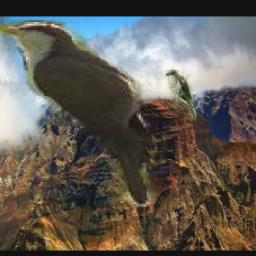Cuckoo: (0, 21, 159, 208), (167, 69, 197, 121)
